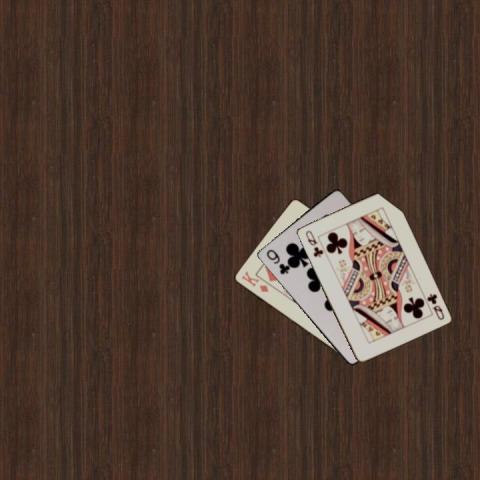9c: (263, 246, 290, 276)
Kd: (238, 268, 270, 294)
Qc: (302, 227, 324, 259), (423, 291, 446, 321)
